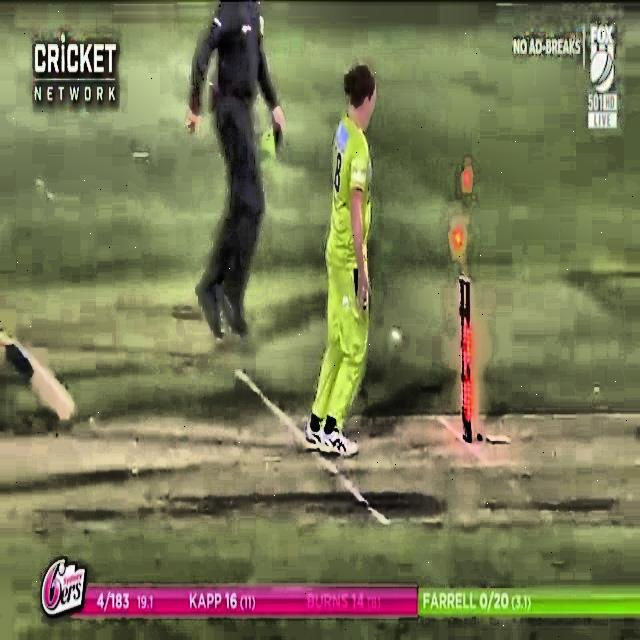Ball: (386, 320, 407, 357)
Bat: (0, 327, 81, 422)
Dis_Wicket: (424, 160, 494, 444)
Pitch_Line: (232, 364, 330, 461), (318, 454, 388, 529)
